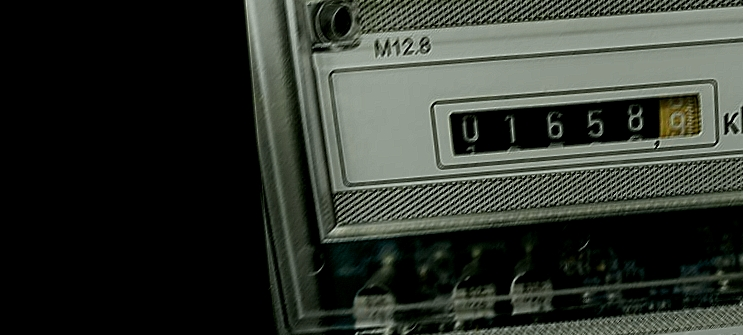0: (458, 111, 480, 142)
1: (501, 110, 521, 143)
5: (583, 105, 607, 137)
6: (543, 105, 566, 140)
8: (623, 98, 646, 132)
9: (665, 108, 688, 138)
screen: (420, 67, 726, 176)
